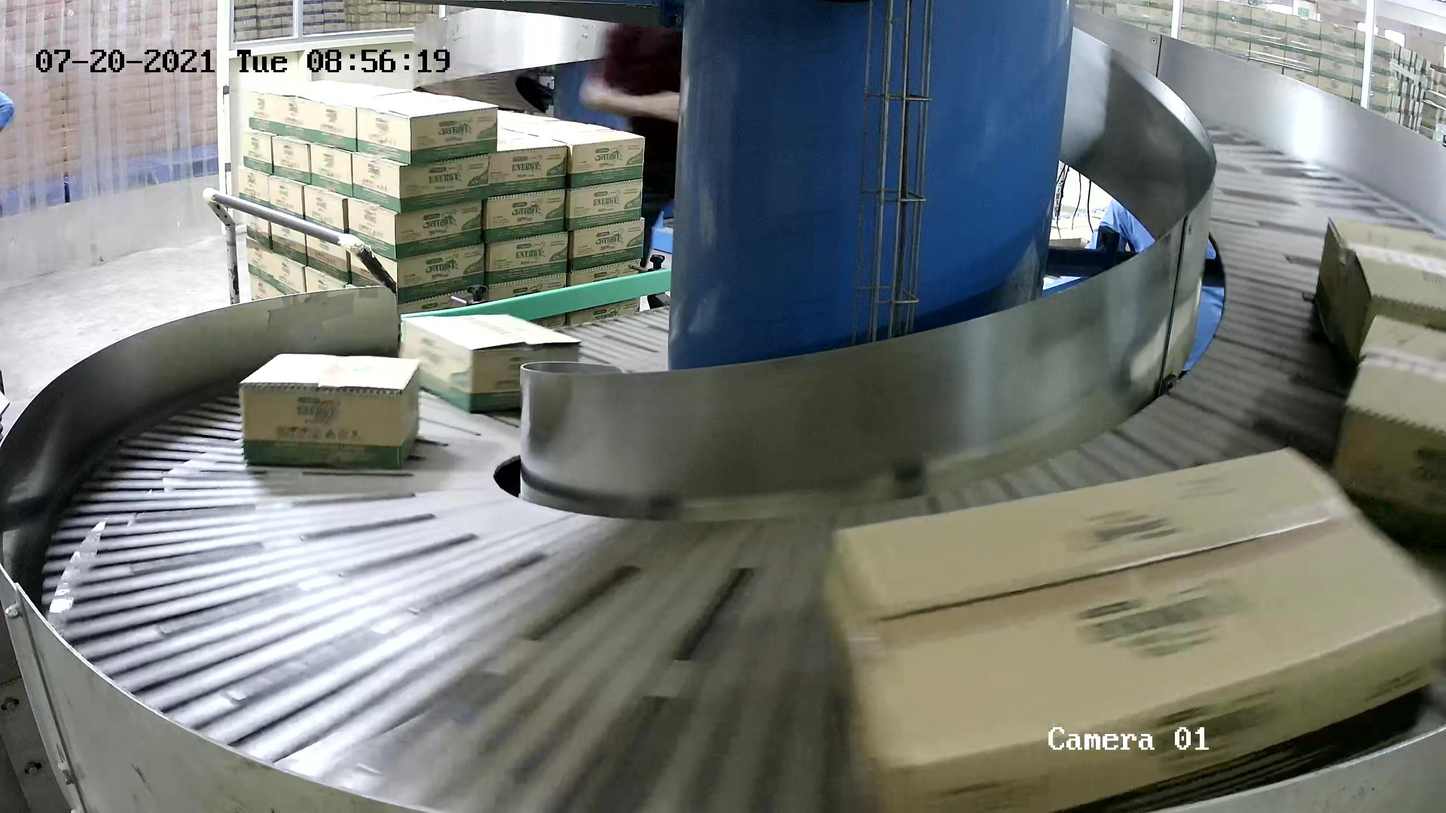Box: (814, 442, 1445, 813), (1329, 312, 1446, 539), (238, 352, 422, 469), (1312, 215, 1446, 368), (397, 313, 583, 414)
